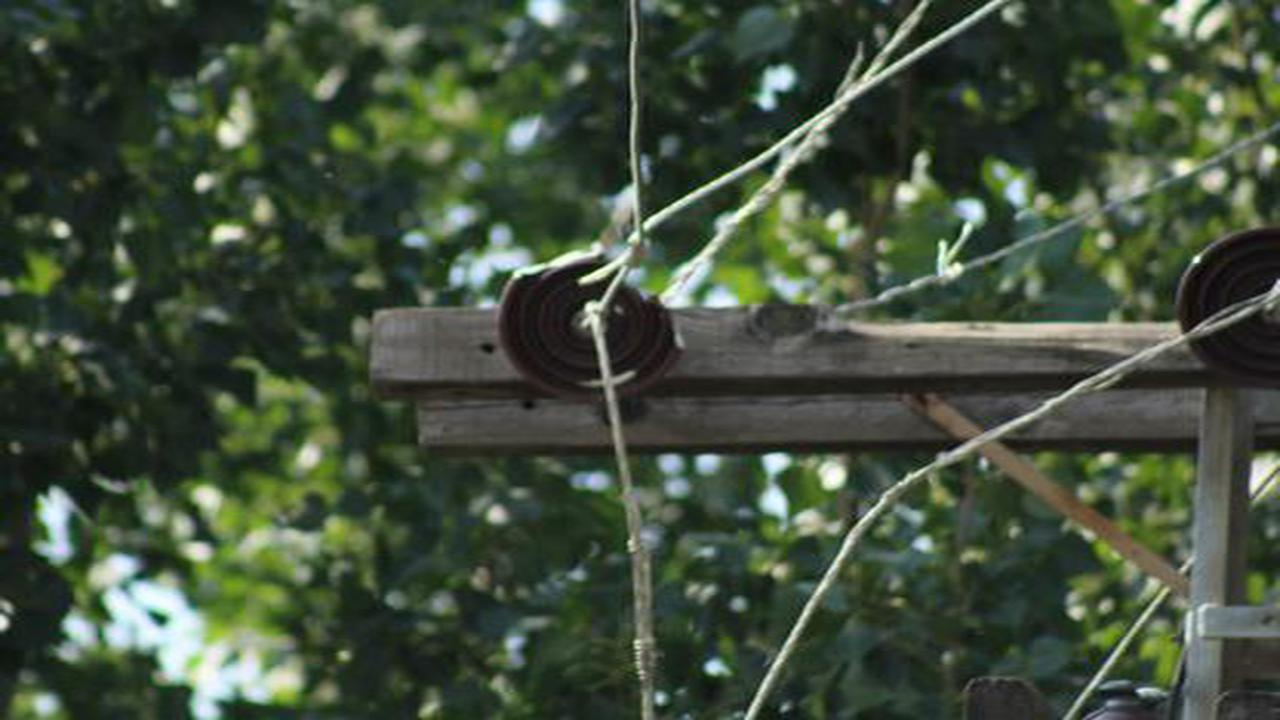defect_disc: (495, 241, 697, 409)
insulator_disc: (1172, 230, 1272, 382)
